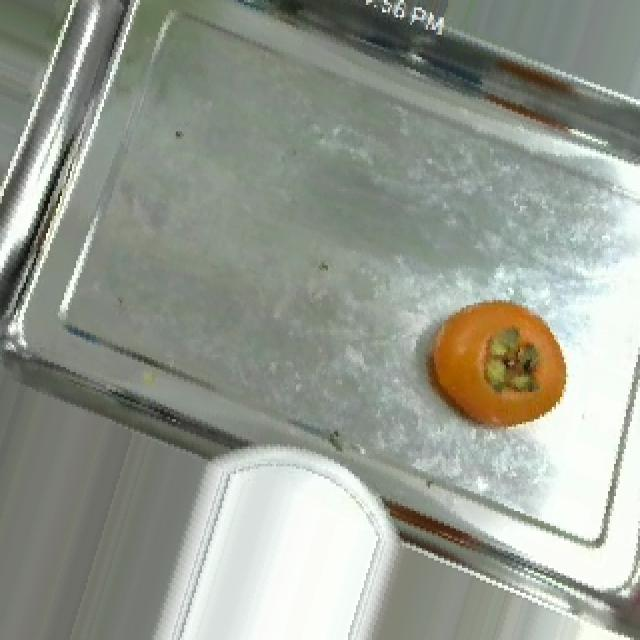Fruit: (416, 285, 584, 442)
